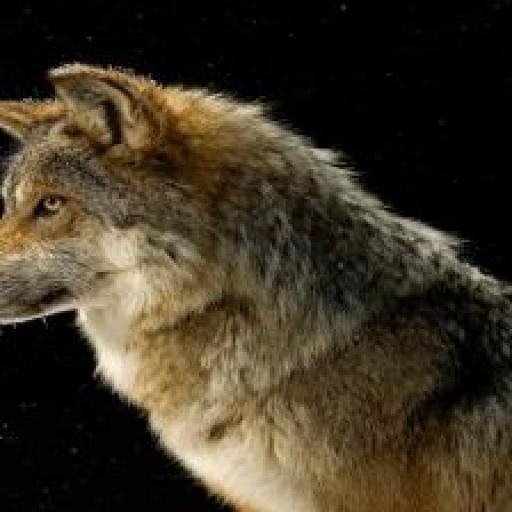wolf: (0, 59, 512, 512)
